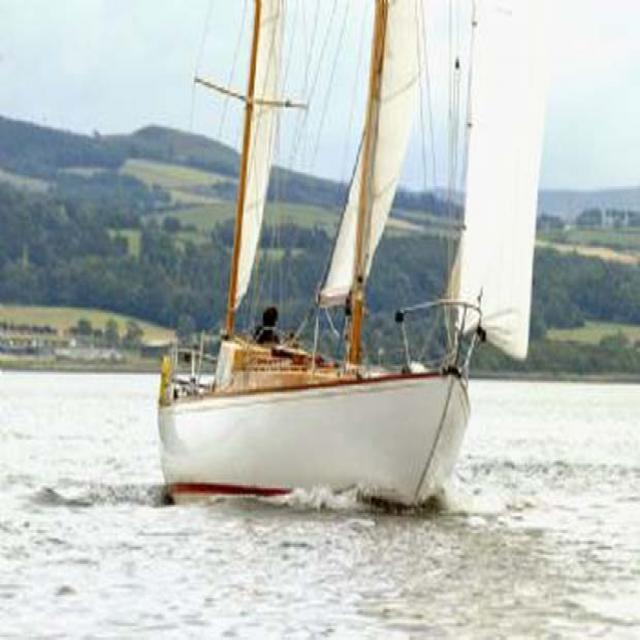Ship: (141, 1, 559, 522)
